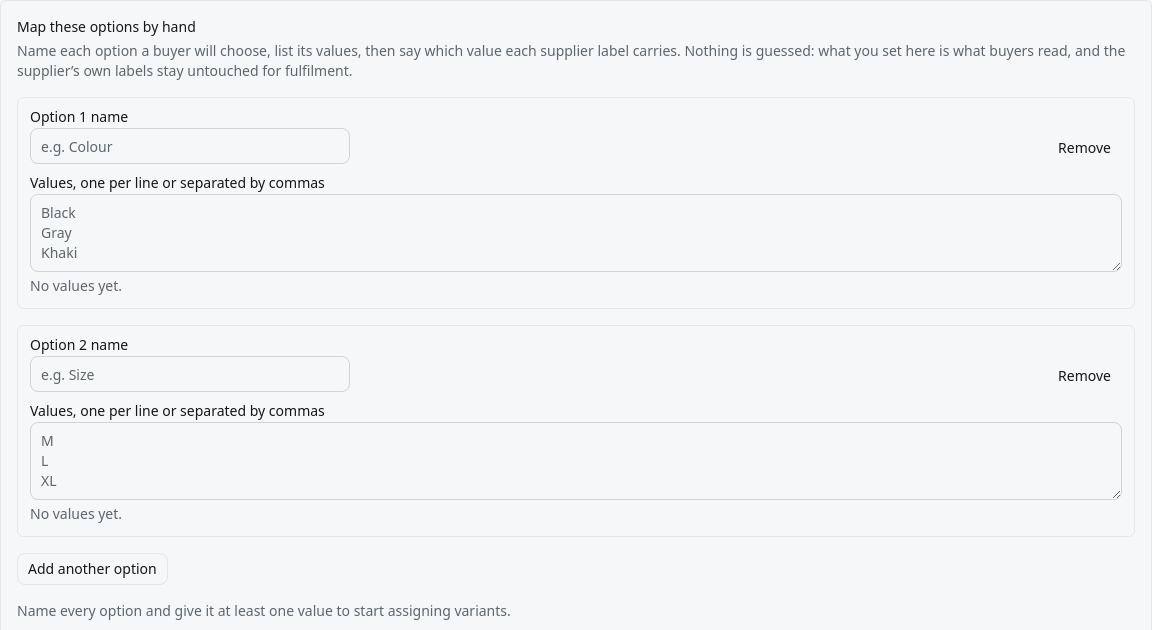
ManualOptionMappingPanel › offers a third axis, which is what splits a colour-and-gender token
Click the button "Add another option" at (92, 569), box 17,553 -> 168,585
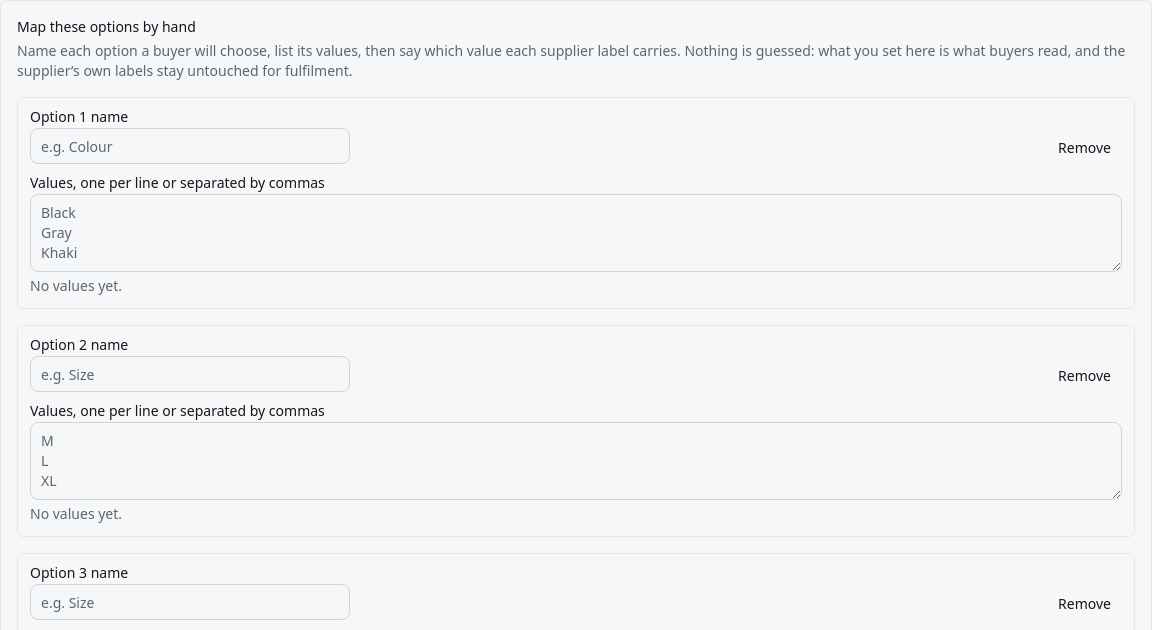
Expected: the field labelled "Option 3 name" is shown, 30,584 -> 350,620
